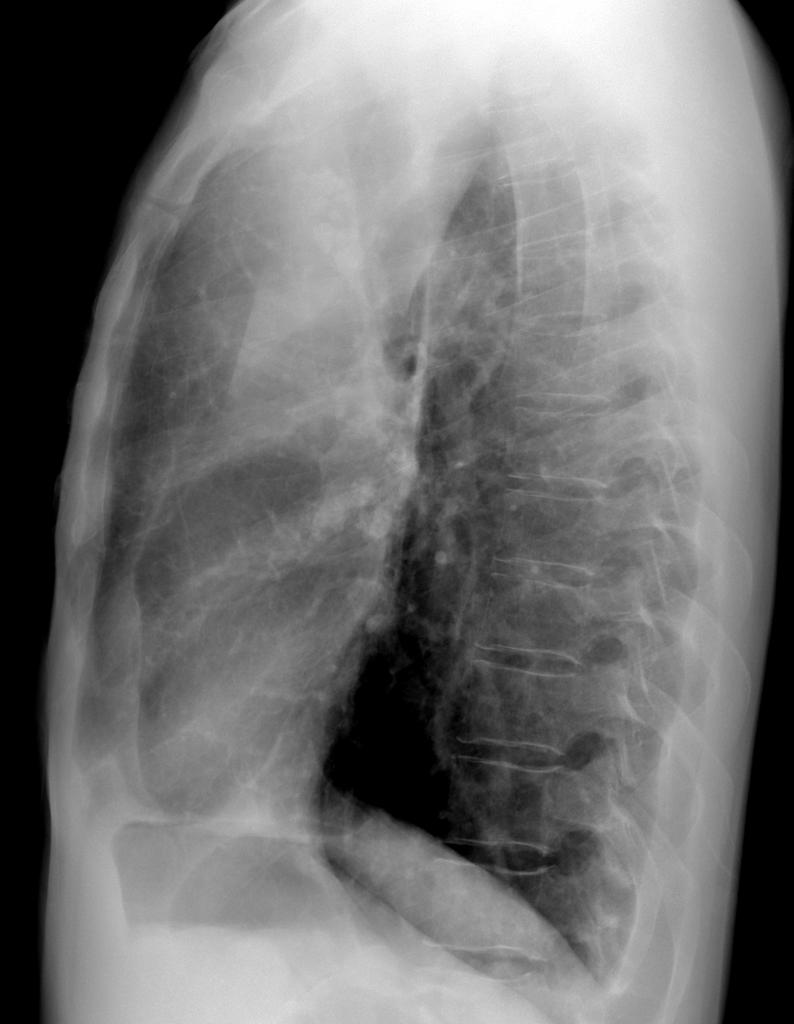cancer: (212, 201, 635, 843)
